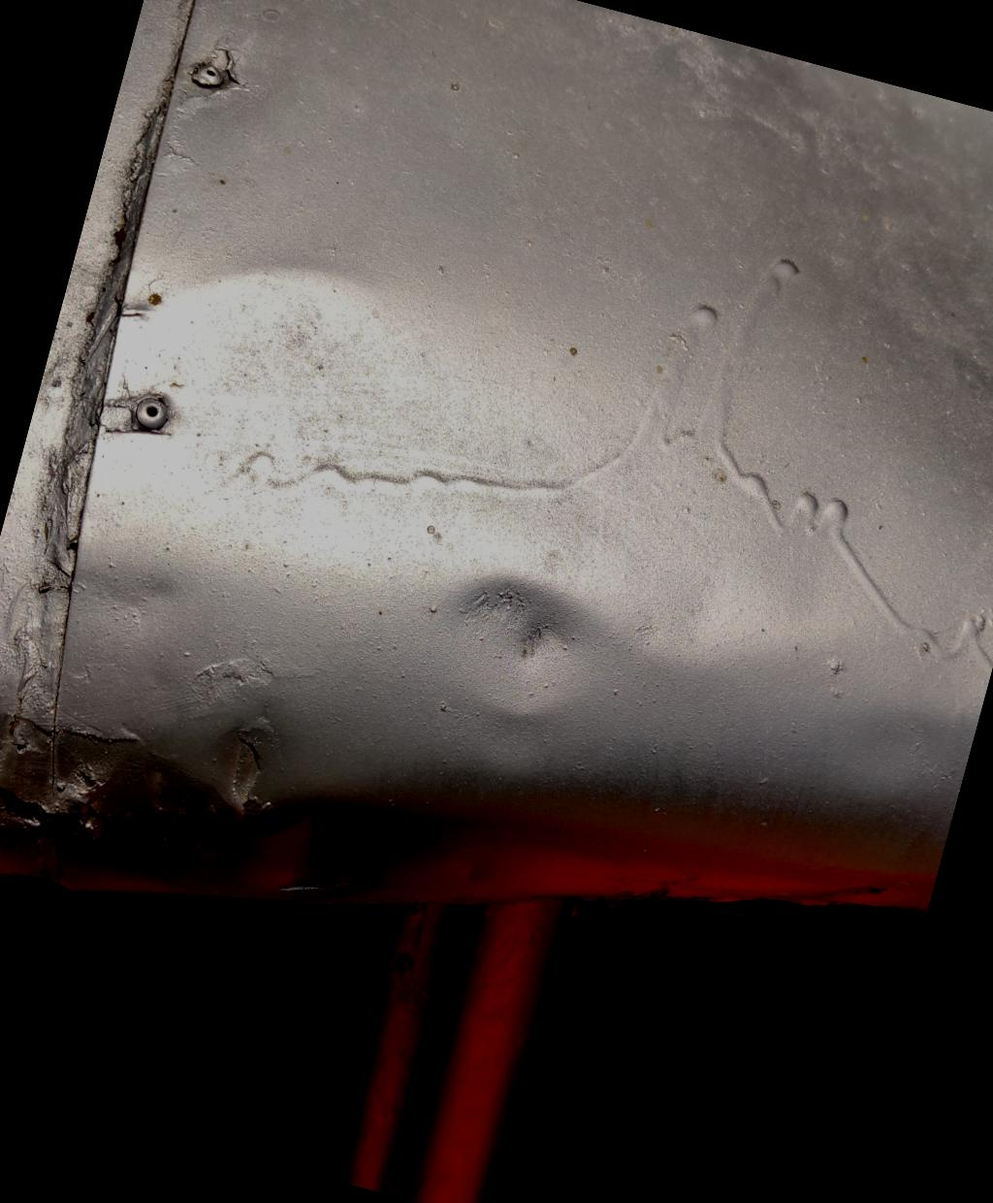dent: (100, 624, 410, 952), (372, 472, 654, 804)
